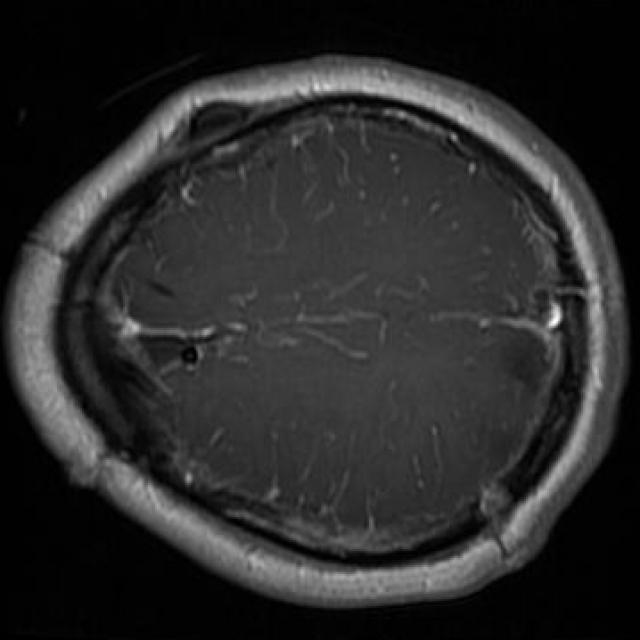glioma: (501, 330, 549, 383)
